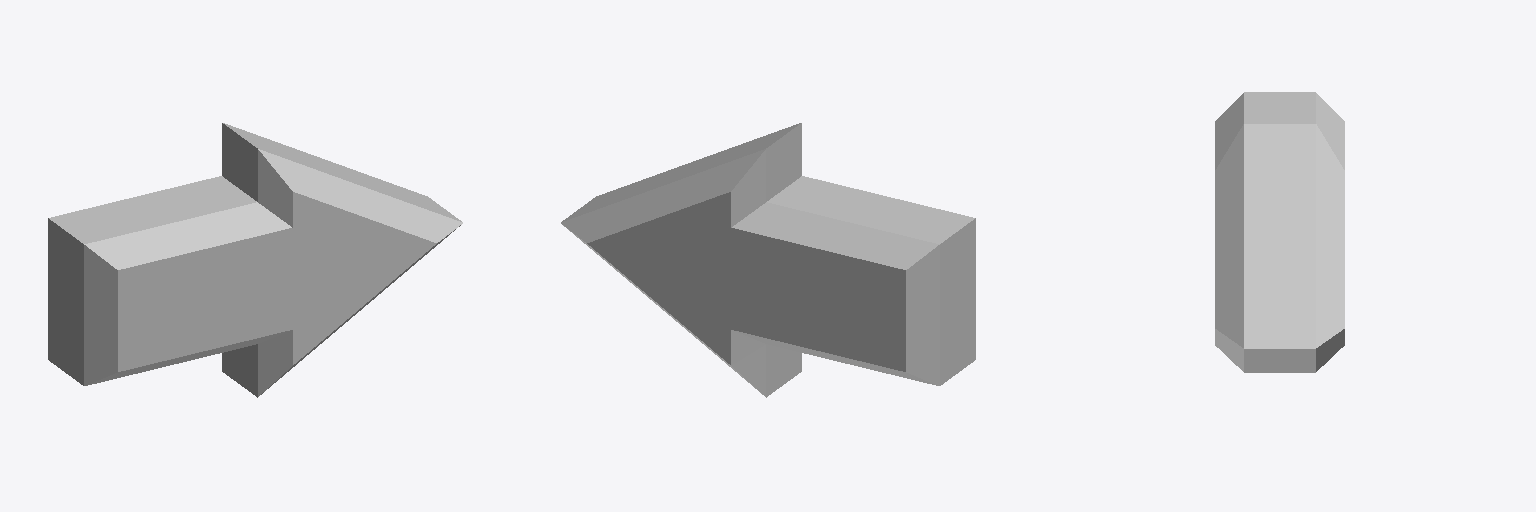
File: arrow4.obj
3 views of the same model, side by side, from view 1: azimuth 30°, elevation 25°; view 2: azimuth 150°, elevation 25°; view 3: azimuth 270°, elevation 25° (orthographic).
Visible parts, largest first — view 1: Arrow; view 2: Arrow; view 3: Arrow.
Part boxes in pixels (left/top/right/bottom): Arrow: left=48, top=123, right=462, bottom=397; Arrow: left=561, top=123, right=975, bottom=397; Arrow: left=1215, top=92, right=1344, bottom=372.
Size of the model in its own units: 2.03 by 1.27 by 0.6.